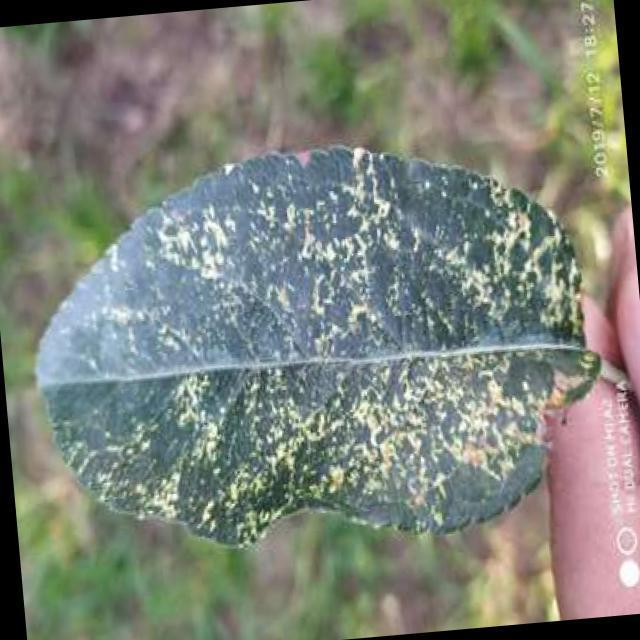Mosaic Virus: (28, 154, 566, 553)
